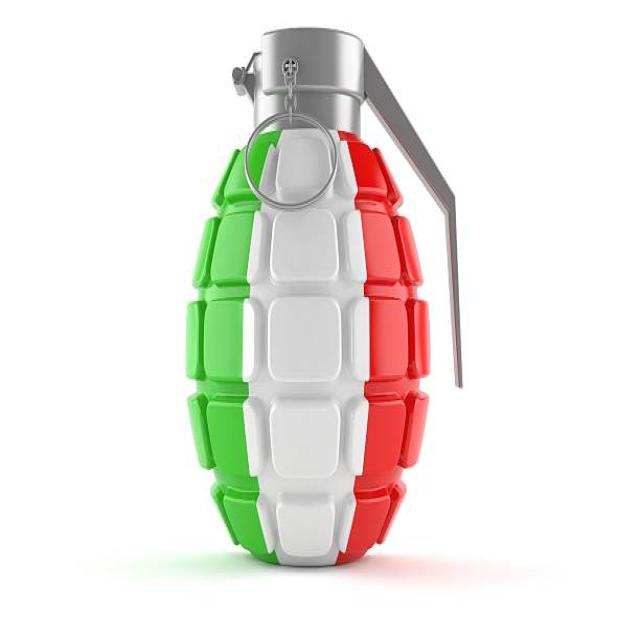grenade: (176, 24, 473, 580)
